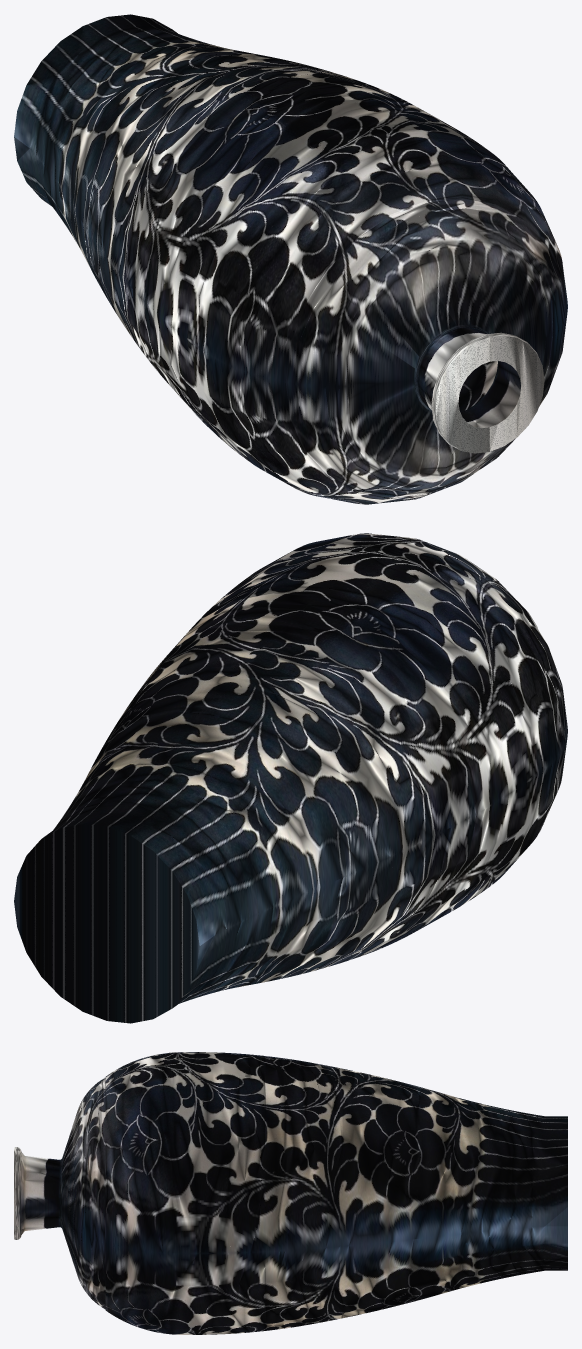
Rendered from model_align.obj.
The picture shows the model from 3 angles, top to bottom: view 1: azimuth 30°, elevation 25°; view 2: azimuth 150°, elevation 25°; view 3: azimuth 270°, elevation 25°; orthographic projection. The views are drawn at different scales.
Size of the model in its own units: 0.1144 by 0.1144 by 0.2231.
Materials: 1 (1 with a texture image).
